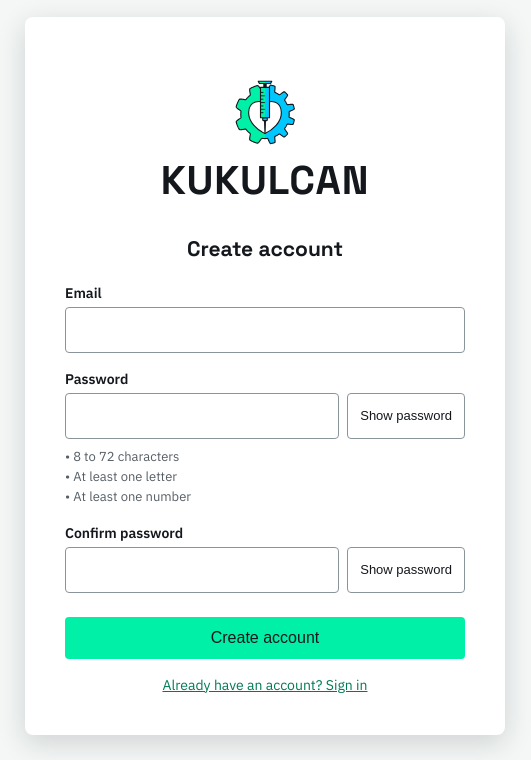
Test: Register › positive › a valid form signs up once with the lowercased email and shows 'Check your email'
Type "Ana@Empresa.COM" into the field labelled "Email". click: (265, 330)
box: top-left (65, 307), bottom-right (465, 353)
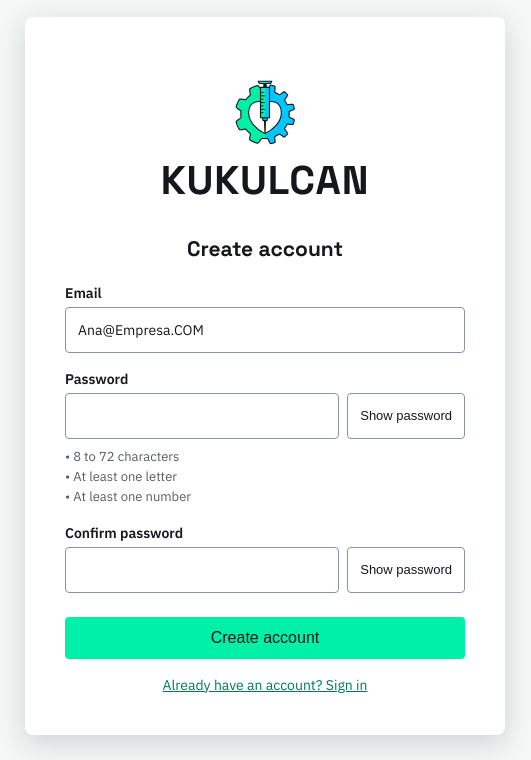
Type "Planta2026" into the password field labelled "Password". click: (202, 416)
box: top-left (65, 393), bottom-right (339, 439)
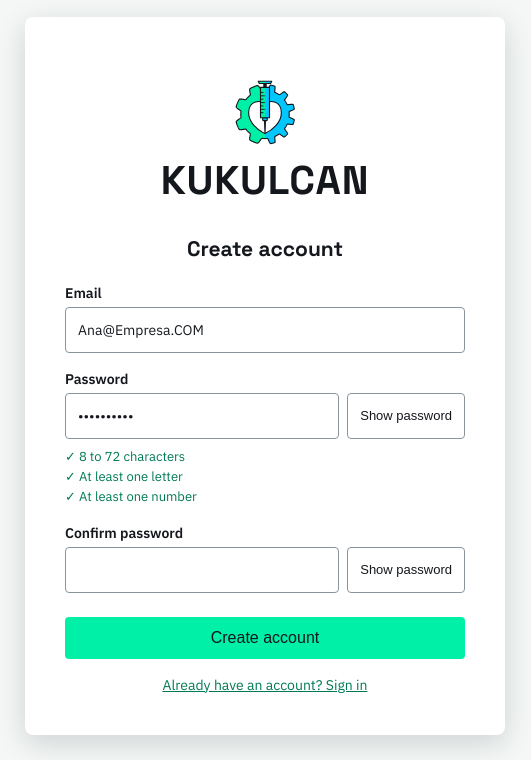
Type "Planta2026" into the password field labelled "Confirm password". click: (202, 570)
box: top-left (65, 547), bottom-right (339, 593)
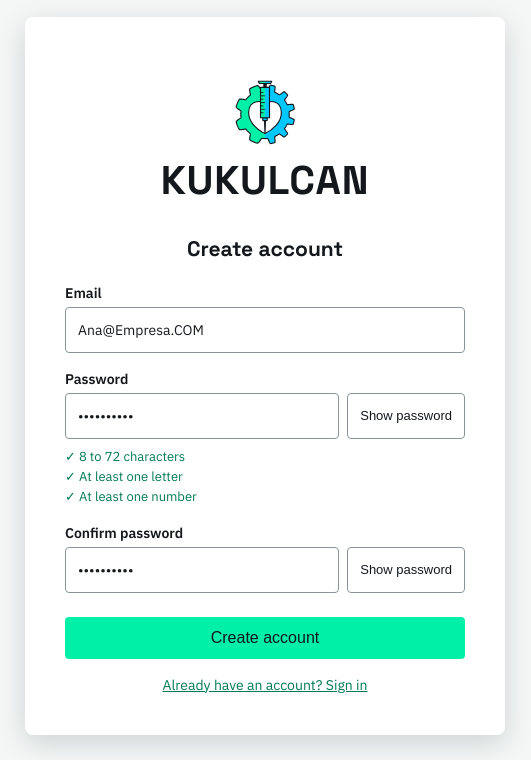
Click the button "Create account". click: (265, 638)
box: top-left (65, 617), bottom-right (465, 659)
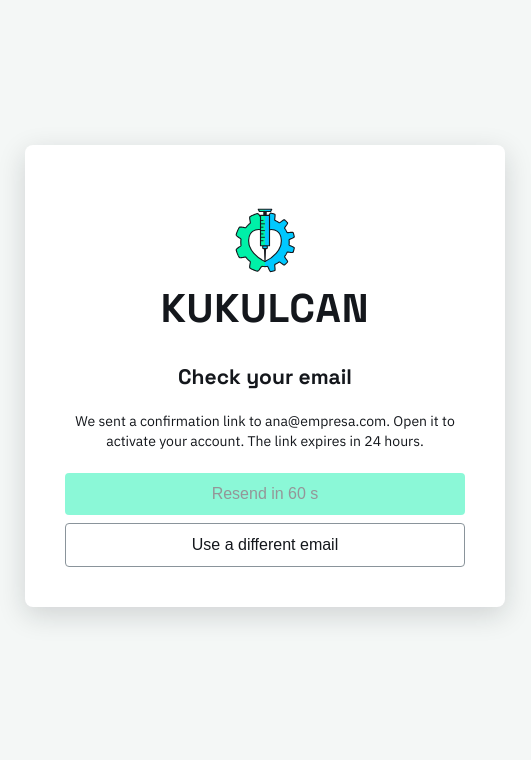
Result: the heading "Check your email" is shown at top-left (178, 363), bottom-right (352, 390)
